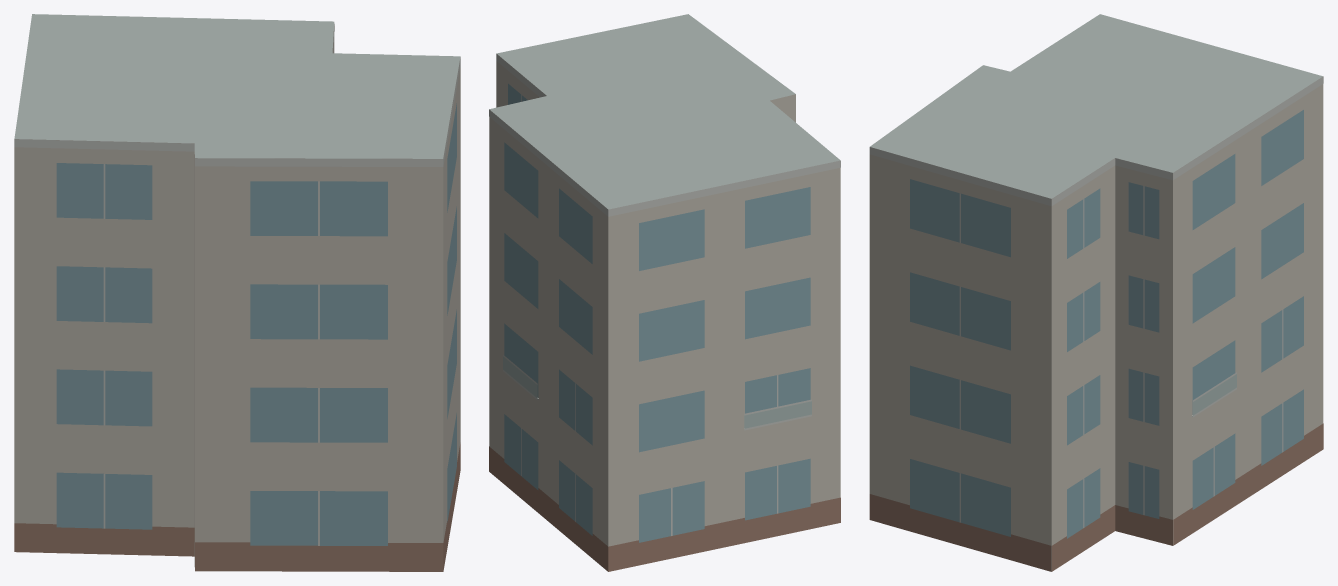
Rendered from survey-upis-32964823.glb.
3 views of the same model, side by side, from view 1: azimuth 30°, elevation 25°; view 2: azimuth 150°, elevation 25°; view 3: azimuth 270°, elevation 25° (orthographic). The views are drawn at different scales.
Visible parts, largest first — view 1: survey-upis-32964823.tmp; view 2: survey-upis-32964823.tmp; view 3: survey-upis-32964823.tmp.
Part boxes in pixels (x1=…): survey-upis-32964823.tmp: x1=14, y1=14, x2=460, y2=571; survey-upis-32964823.tmp: x1=489, y1=14, x2=840, y2=571; survey-upis-32964823.tmp: x1=869, y1=14, x2=1323, y2=571.
Size of the model in its own units: 12.98 by 12.2 by 13.46.
